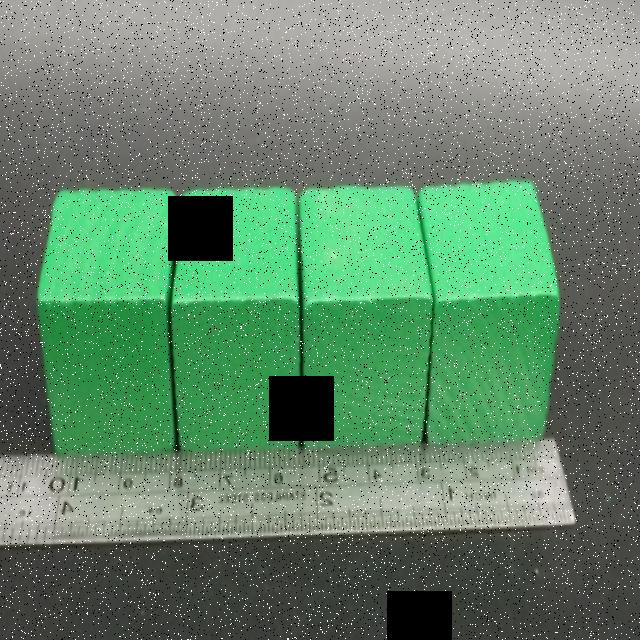green cube: (416, 179, 561, 445), (35, 187, 176, 456), (300, 185, 434, 451), (170, 189, 299, 452)
